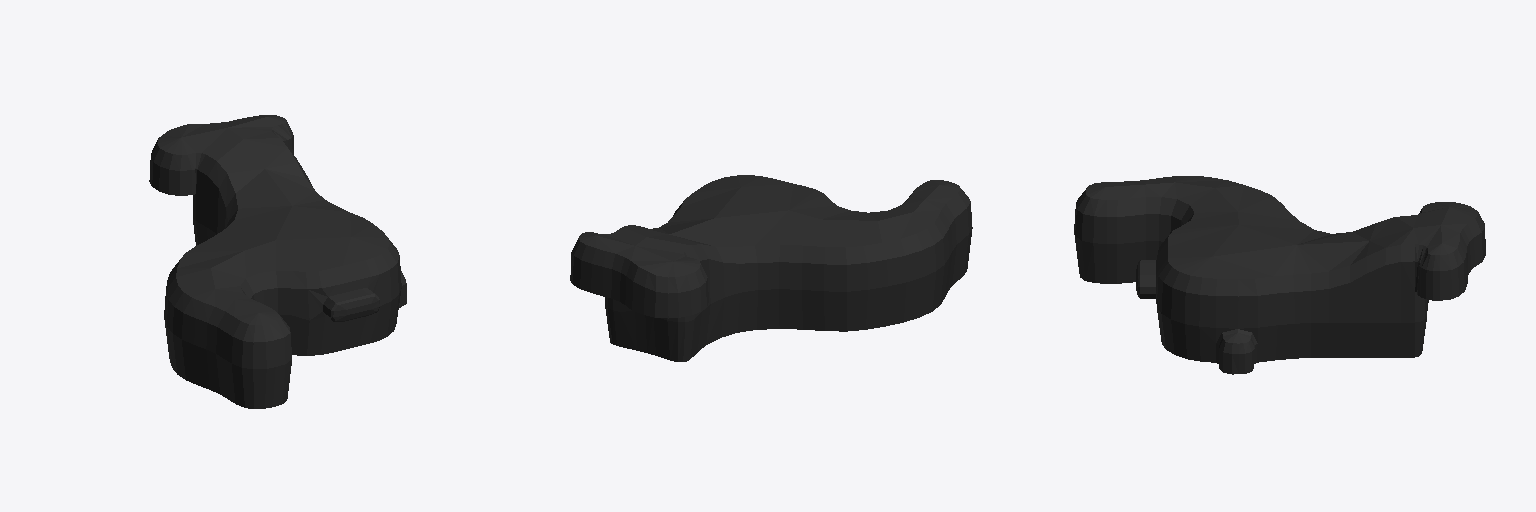
The model's file is FloatyLavaCavePlanetA.obj.
3 renders of one model, left to right at view 1: azimuth 30°, elevation 25°; view 2: azimuth 150°, elevation 25°; view 3: azimuth 270°, elevation 25°, orthographic.
Parts seen in each view (by area): view 1: LavaCaveA_Collision_Circle.001; view 2: LavaCaveA_Collision_Circle.001; view 3: LavaCaveA_Collision_Circle.001.
Boxes of the visible parts, <box> form: LavaCaveA_Collision_Circle.001: <box>149,115,406,408</box>; LavaCaveA_Collision_Circle.001: <box>570,175,972,361</box>; LavaCaveA_Collision_Circle.001: <box>1074,176,1485,374</box>.
Bounding box in the file's own units: 6081 × 2650 × 8611.